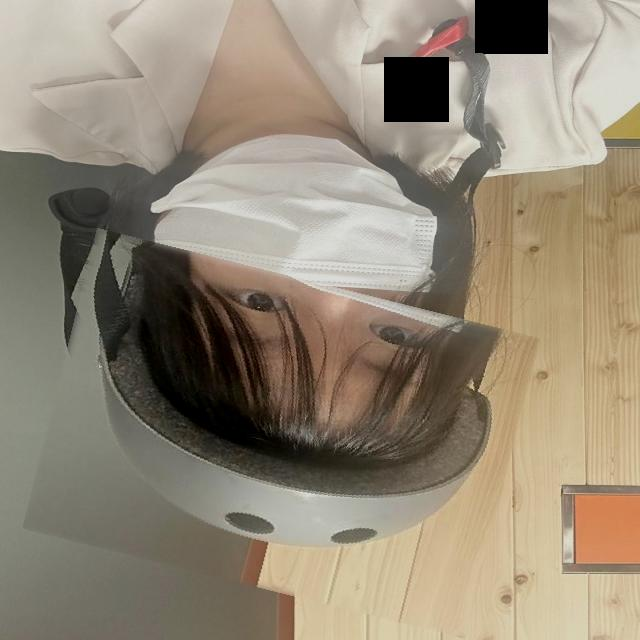helmet: (38, 253, 525, 613)
